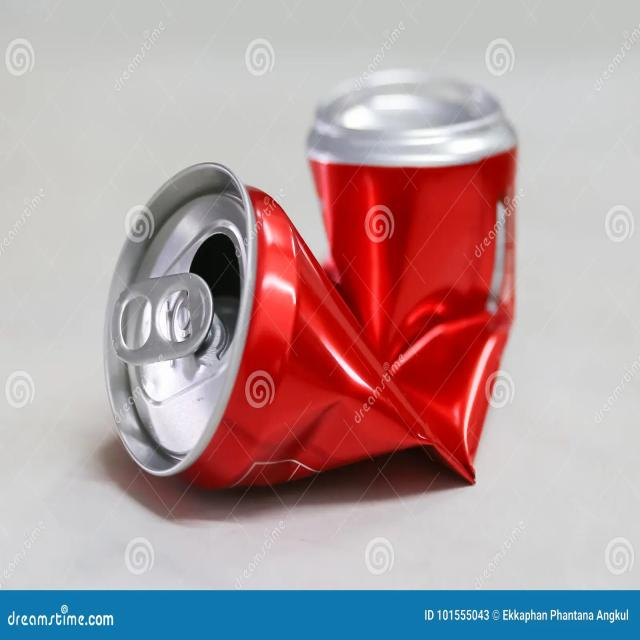aluminum_can: (104, 73, 517, 489)
